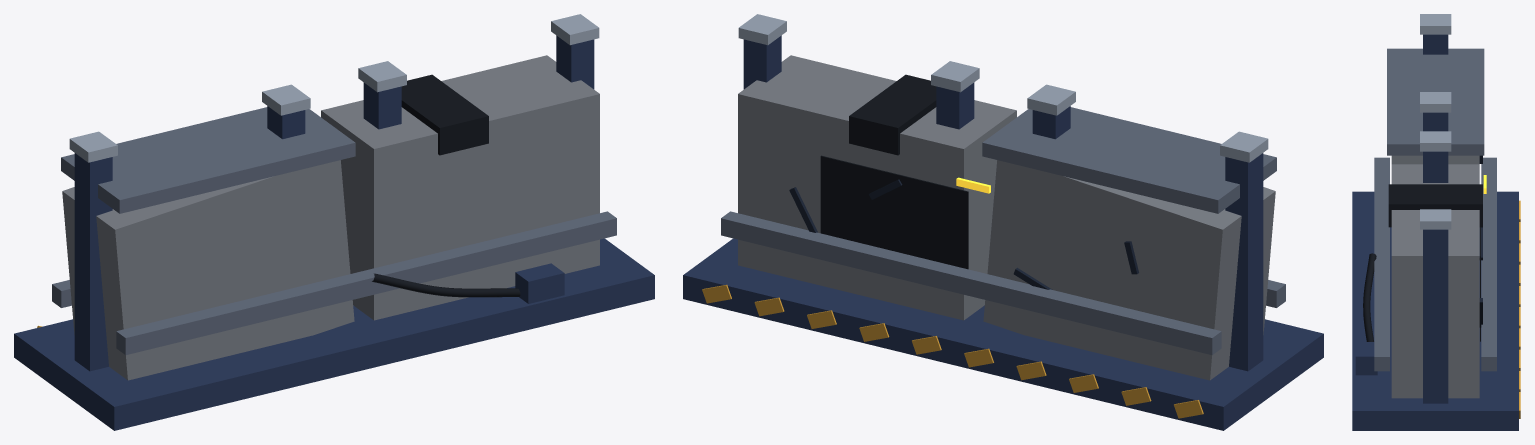
File: tower_barricade_damaged.glb
3 views of the same model, side by side, from view 1: azimuth 30°, elevation 25°; view 2: azimuth 150°, elevation 25°; view 3: azimuth 270°, elevation 25° (orthographic). The views are drawn at different scales.
Visible parts, largest first — view 1: barricade_block_l, barricade_block_r, barricade_footing, barricade_block_cap_r, barricade_beam_rear, barricade_post1.5, barricade_chip, barricade_junction, barricade_post-1.5, barricade_post-0.3, barricade_loom, barricade_post_cap-0.3 (+4 smaller); view 2: barricade_block_r, barricade_block_l, barricade_footing, barricade_block_cap_r, barricade_beam, barricade_scorch, barricade_post1.5, barricade_chip, barricade_footing_hazard, barricade_post-1.5, barricade_post-0.3, barricade_post_cap-0.3 (+4 smaller); view 3: barricade_footing, barricade_block_l, barricade_block_cap_r, barricade_post-1.5, barricade_beam_rear, barricade_beam, barricade_chip, barricade_post-0.3, barricade_loom, barricade_junction, barricade_post_cap-1.5, barricade_post_cap-0.3 (+6 smaller).
Boxes of the visible parts, box(x1,y1,x2,y2) form: barricade_block_l: box(321, 55, 599, 320); barricade_block_r: box(62, 160, 354, 380); barricade_footing: box(14, 238, 654, 430); barricade_block_cap_r: box(61, 107, 355, 213); barricade_beam_rear: box(116, 211, 616, 355); barricade_post1.5: box(74, 153, 112, 371); barricade_chip: box(401, 74, 488, 155); barricade_junction: box(515, 263, 564, 303); barricade_post-1.5: box(556, 35, 594, 89); barricade_post-0.3: box(363, 82, 401, 129); barricade_loom: box(372, 273, 520, 297); barricade_post_cap-0.3: box(358, 61, 406, 92); barricade_block_r: box(983, 160, 1275, 380); barricade_block_l: box(738, 55, 1016, 320); barricade_footing: box(683, 238, 1323, 430); barricade_block_cap_r: box(982, 107, 1276, 213); barricade_beam: box(721, 211, 1221, 355); barricade_scorch: box(820, 155, 968, 269); barricade_post1.5: box(1225, 153, 1263, 371); barricade_chip: box(849, 74, 936, 155); barricade_footing_hazard: box(702, 284, 1203, 418); barricade_post-1.5: box(743, 35, 781, 89); barricade_post-0.3: box(936, 82, 974, 129); barricade_post_cap-0.3: box(931, 61, 979, 92); barricade_footing: box(1352, 191, 1518, 430); barricade_block_l: box(1391, 164, 1479, 398); barricade_block_cap_r: box(1387, 48, 1484, 155); barricade_post-1.5: box(1423, 229, 1448, 403); barricade_beam_rear: box(1374, 157, 1389, 371); barricade_beam: box(1481, 157, 1496, 371); barricade_chip: box(1388, 184, 1482, 227); barricade_post-0.3: box(1423, 151, 1448, 182); barricade_loom: box(1363, 253, 1376, 341); barricade_junction: box(1355, 342, 1377, 375); barricade_post_cap-1.5: box(1420, 209, 1451, 229); barricade_post_cap-0.3: box(1420, 131, 1451, 151).
Bounding box in the file's own units: 4.95 × 2.14 × 1.6.
